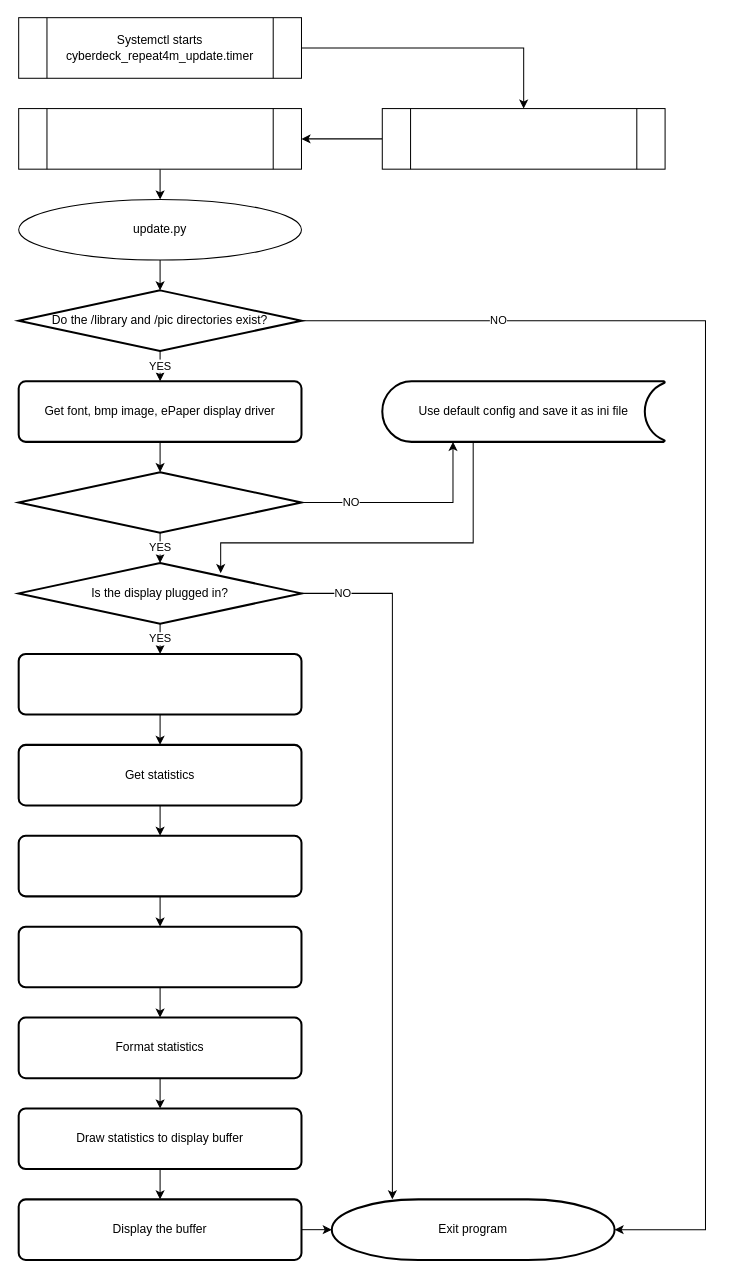
This 731x1279 diagram has some shape labels left out. The centre of each missing label's shape, as x and y in pixels:
"Can config be determined from ini file?" belongs at point (159, 502).
"cyberdeck_repeat4m_update.service starts update.py" belongs at point (159, 138).
"cyberdeck_repeat4m_update.timer starts cyberdeck_repeat4m_update.service" belongs at point (523, 138).
"Draw combined.bmp to display buffer" belongs at point (159, 956).
"Initialize ePaper display" belongs at point (159, 683).
"Initialize font from /pic" belongs at point (159, 865).
